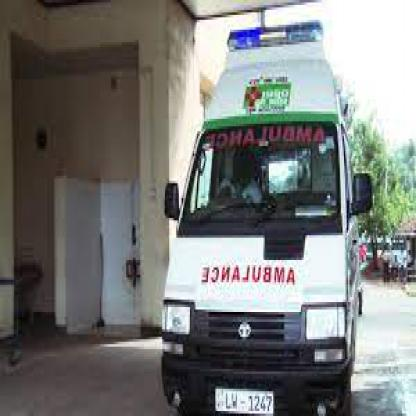van: (160, 18, 377, 414)
